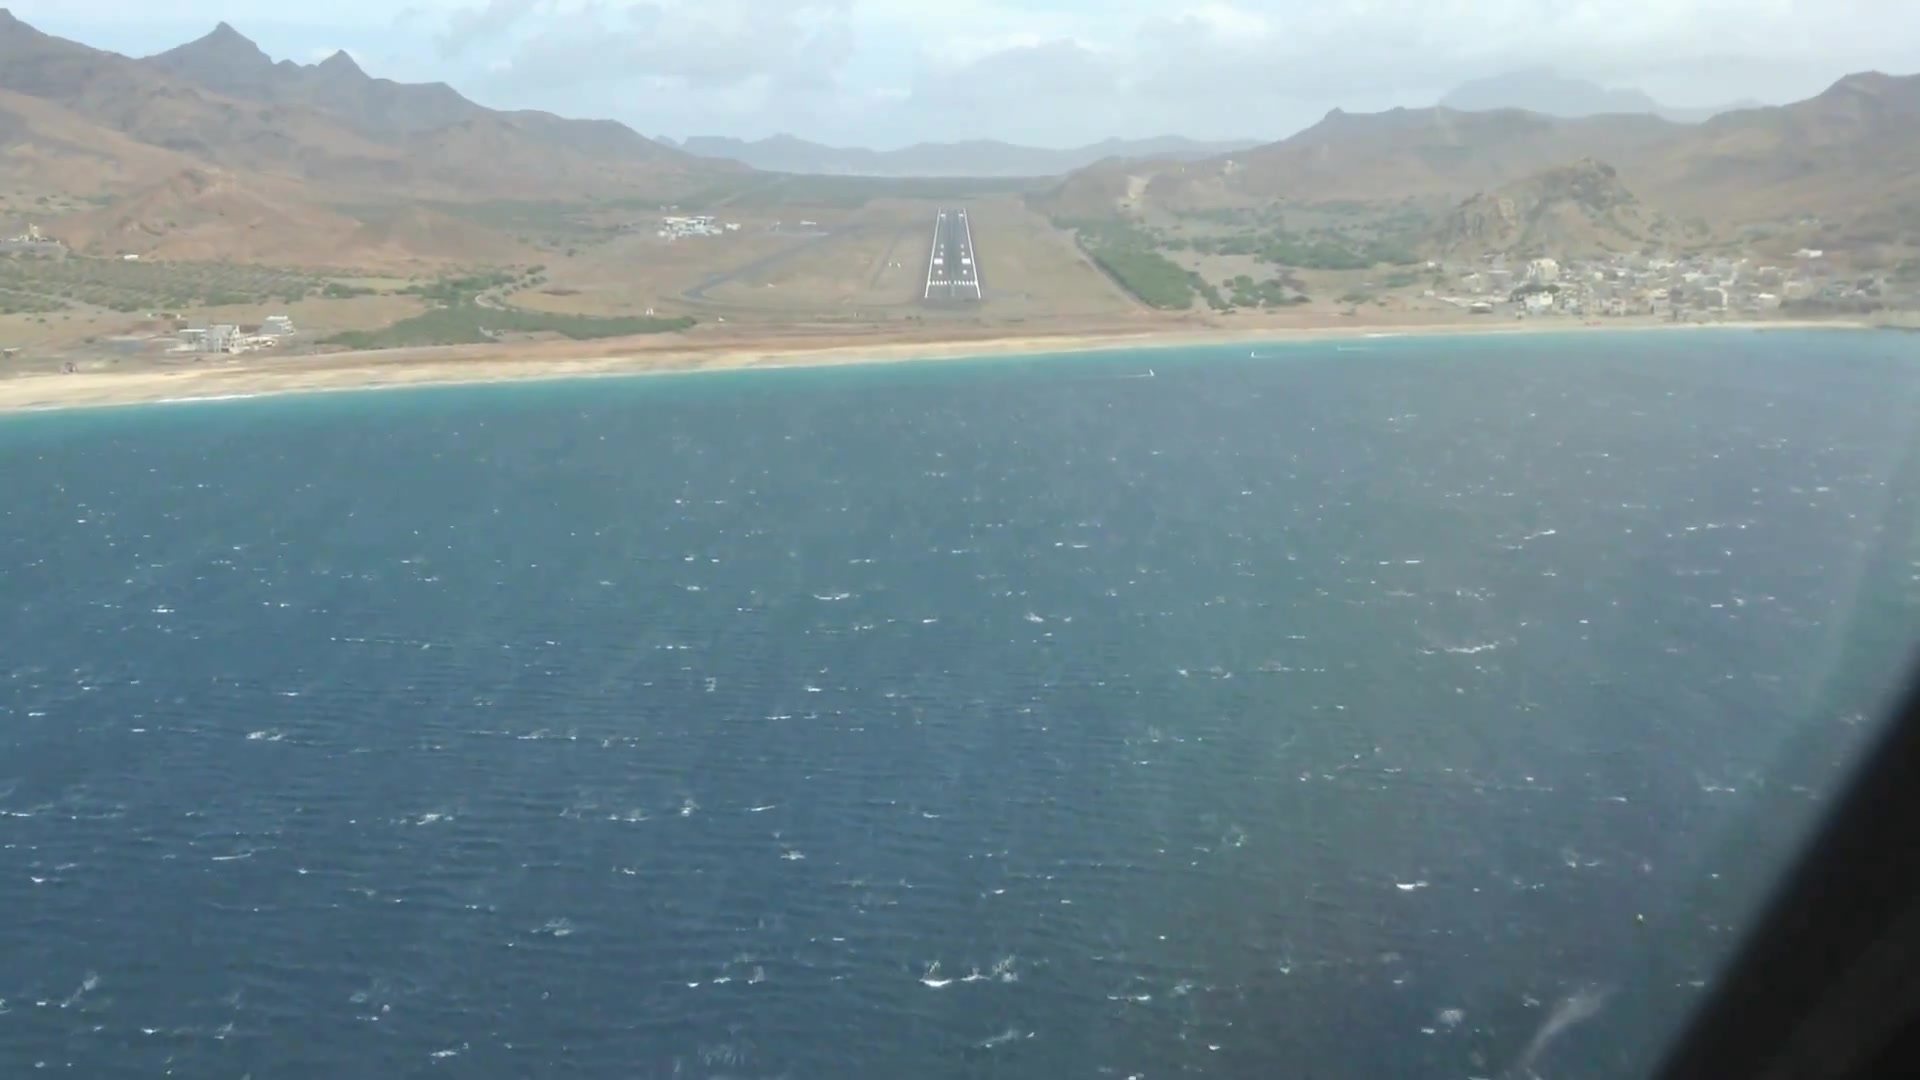entrance: (928, 280, 977, 286)
runway: (923, 206, 980, 301)
